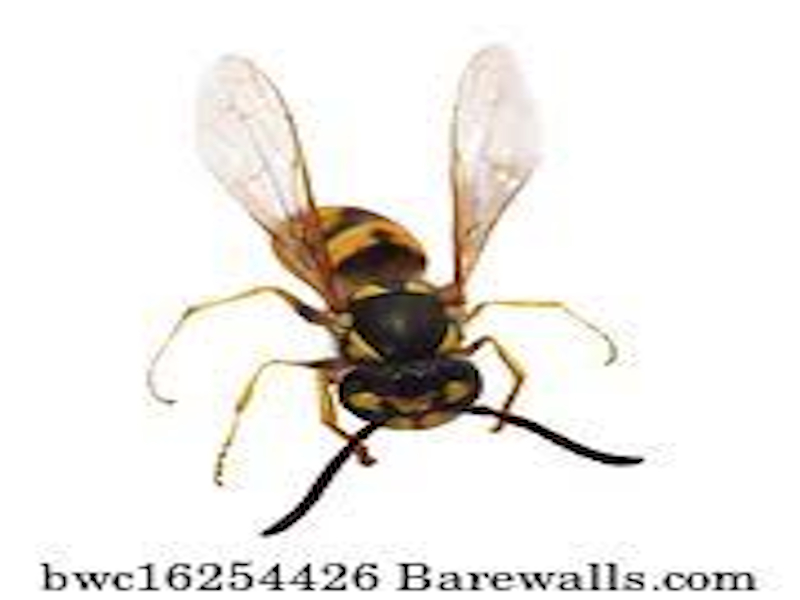chax: (151, 19, 664, 534)
